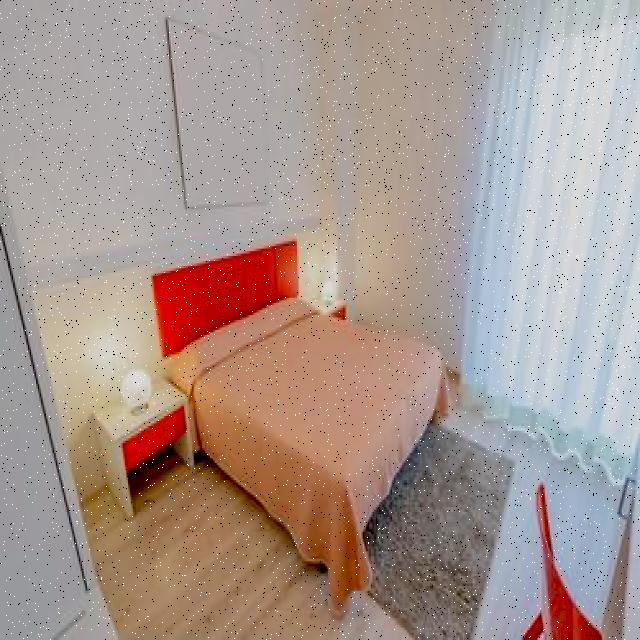bed: (174, 259, 440, 538)
